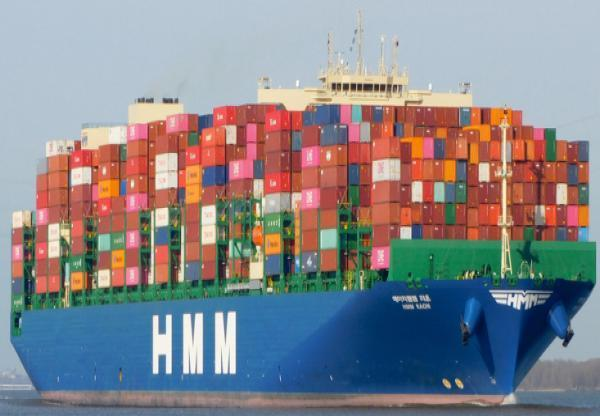Container Ship: (8, 10, 597, 408)
